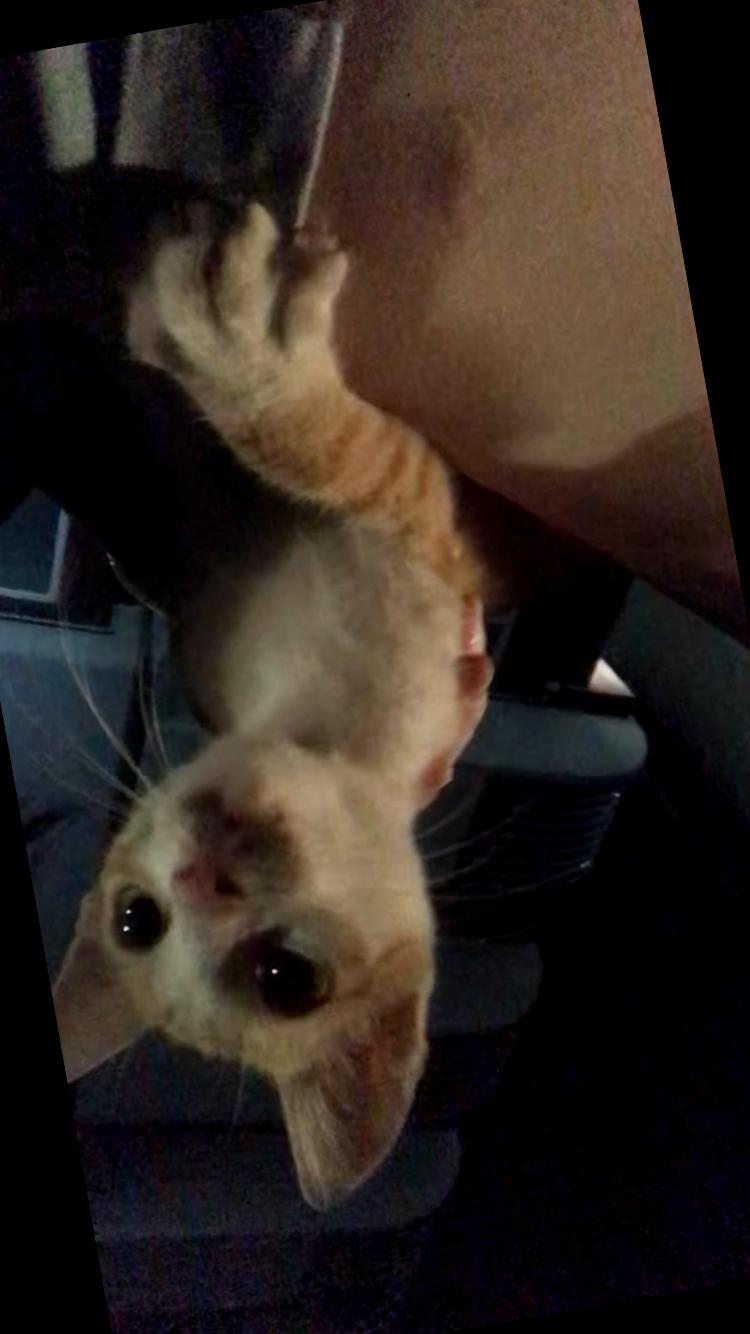macka: (0, 160, 587, 1251)
